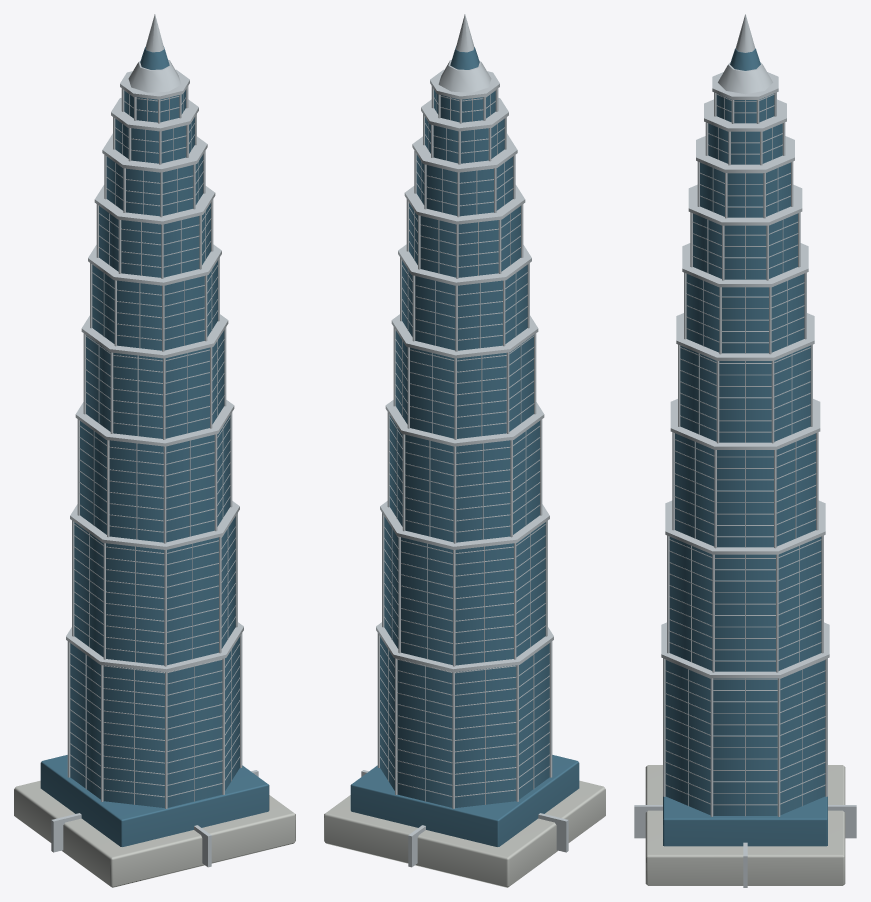
File: jin-mao.glb
3 views of the same model, side by side, from view 1: azimuth 30°, elevation 25°; view 2: azimuth 150°, elevation 25°; view 3: azimuth 270°, elevation 25° (orthographic).
Visible parts, largest first — view 1: Jin Mao · octagonal tier 00, Jin Mao · octagonal tier 01, Jin Mao · octagonal tier 02, Jin Mao · podium, Jin Mao · octagonal tier 03, Jin Mao · lobby glass, Jin Mao · octagonal tier 04, Jin Mao · octagonal tier 05, Jin Mao · octagonal tier 06, Jin Mao · octagonal tier 07, Jin Mao · projecting tier cornice.001, Jin Mao · projecting tier cornice.002 (+9 smaller); view 2: Jin Mao · octagonal tier 00, Jin Mao · octagonal tier 01, Jin Mao · octagonal tier 02, Jin Mao · podium, Jin Mao · octagonal tier 03, Jin Mao · lobby glass, Jin Mao · octagonal tier 04, Jin Mao · octagonal tier 05, Jin Mao · octagonal tier 06, Jin Mao · octagonal tier 07, Jin Mao · projecting tier cornice.001, Jin Mao · projecting tier cornice.002 (+9 smaller); view 3: Jin Mao · octagonal tier 00, Jin Mao · octagonal tier 01, Jin Mao · octagonal tier 02, Jin Mao · podium, Jin Mao · octagonal tier 03, Jin Mao · octagonal tier 04, Jin Mao · lobby glass, Jin Mao · octagonal tier 05, Jin Mao · octagonal tier 06, Jin Mao · octagonal tier 07, Jin Mao · projecting tier cornice.001, Jin Mao · projecting tier cornice (+14 smaller).
Part boxes in pixels (x1,y1,x2,y2): Jin Mao · octagonal tier 00: [70, 637, 239, 807]; Jin Mao · octagonal tier 01: [74, 516, 235, 665]; Jin Mao · octagonal tier 02: [80, 415, 230, 542]; Jin Mao · podium: [14, 780, 295, 887]; Jin Mao · octagonal tier 03: [86, 330, 224, 438]; Jin Mao · lobby glass: [40, 755, 269, 846]; Jin Mao · octagonal tier 04: [92, 260, 217, 350]; Jin Mao · octagonal tier 05: [99, 203, 210, 277]; Jin Mao · octagonal tier 06: [106, 154, 203, 216]; Jin Mao · octagonal tier 07: [115, 117, 194, 163]; Jin Mao · projecting tier cornice.001: [70, 501, 239, 549]; Jin Mao · projecting tier cornice.002: [75, 400, 234, 446]; Jin Mao · octagonal tier 00: [380, 637, 549, 807]; Jin Mao · octagonal tier 01: [384, 516, 545, 665]; Jin Mao · octagonal tier 02: [389, 415, 539, 542]; Jin Mao · podium: [324, 780, 605, 887]; Jin Mao · octagonal tier 03: [395, 330, 533, 438]; Jin Mao · lobby glass: [350, 755, 579, 846]; Jin Mao · octagonal tier 04: [402, 260, 527, 350]; Jin Mao · octagonal tier 05: [409, 203, 520, 277]; Jin Mao · octagonal tier 06: [416, 154, 513, 216]; Jin Mao · octagonal tier 07: [425, 117, 504, 163]; Jin Mao · projecting tier cornice.001: [380, 501, 549, 549]; Jin Mao · projecting tier cornice.002: [385, 400, 544, 446]; Jin Mao · octagonal tier 00: [665, 660, 825, 815]; Jin Mao · octagonal tier 01: [669, 537, 821, 671]; Jin Mao · octagonal tier 02: [675, 433, 815, 547]; Jin Mao · podium: [645, 765, 845, 885]; Jin Mao · octagonal tier 03: [680, 345, 810, 442]; Jin Mao · octagonal tier 04: [686, 274, 804, 353]; Jin Mao · lobby glass: [663, 796, 827, 846]; Jin Mao · octagonal tier 05: [693, 213, 797, 279]; Jin Mao · octagonal tier 06: [700, 162, 790, 217]; Jin Mao · octagonal tier 07: [708, 123, 782, 164]; Jin Mao · projecting tier cornice.001: [665, 500, 825, 554]; Jin Mao · projecting tier cornice: [661, 622, 829, 678].
Size of the model in its own units: 110 by 420 by 102.
